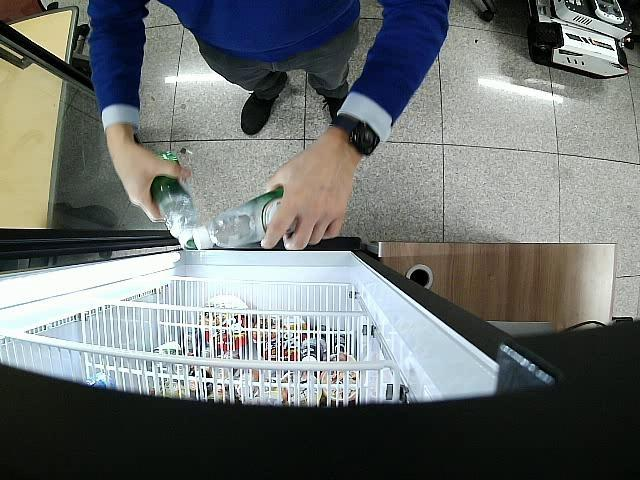18_trevi: (196, 186, 300, 250), (151, 152, 195, 249)
